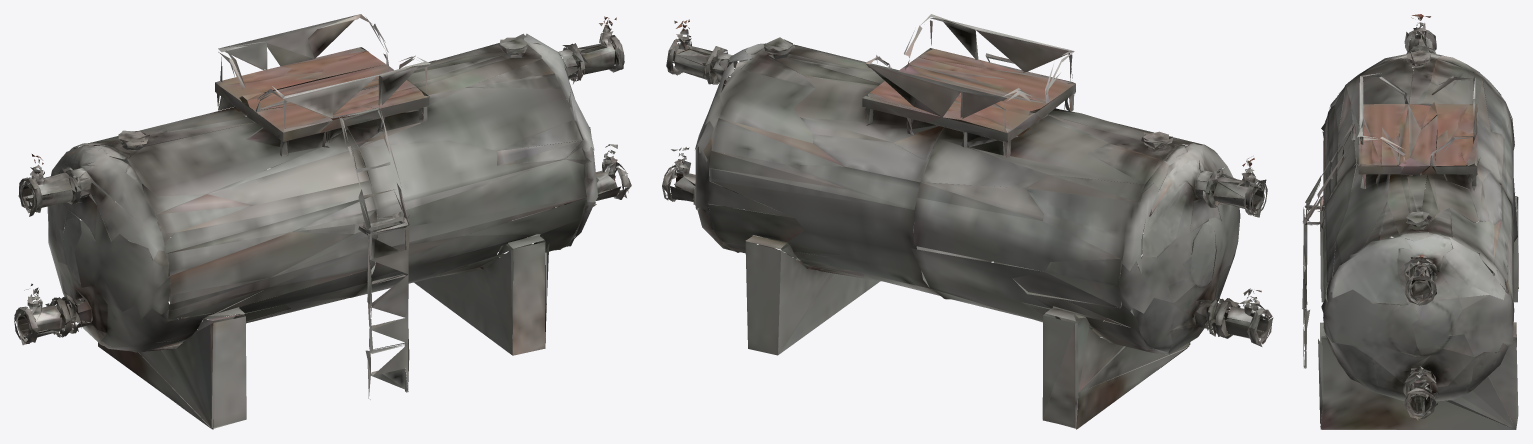
Rendered from tank_horizontal.glb.
The picture shows the model from 3 angles, left to right: view 1: azimuth 30°, elevation 25°; view 2: azimuth 150°, elevation 25°; view 3: azimuth 270°, elevation 25°; orthographic projection. The views are drawn at different scales.
Parts seen in each view (by area): view 1: Mesh_0; view 2: Mesh_0; view 3: Mesh_0.
Part boxes in pixels (x1=…): Mesh_0: x1=14, y1=14, x2=631, y2=429; Mesh_0: x1=662, y1=14, x2=1273, y2=429; Mesh_0: x1=1302, y1=14, x2=1518, y2=429.
Bounding box in the file's own units: 1.91 × 0.8999 × 0.6897.
1 material, 1 textured.
